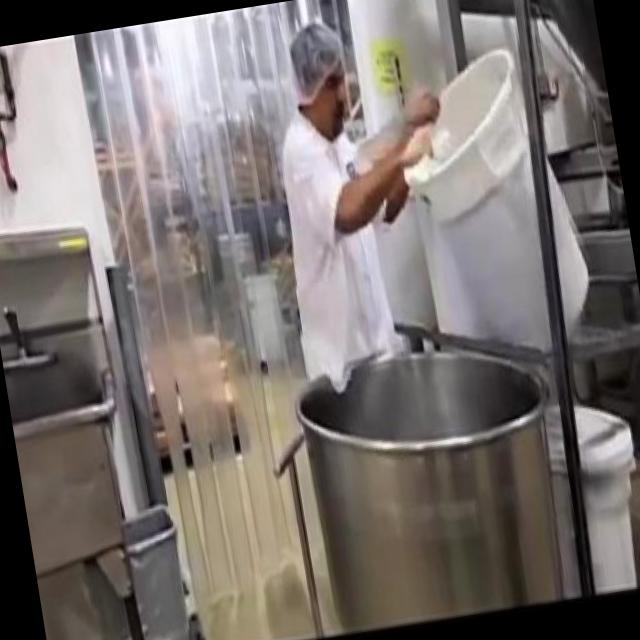hairnet: (288, 17, 349, 108)
